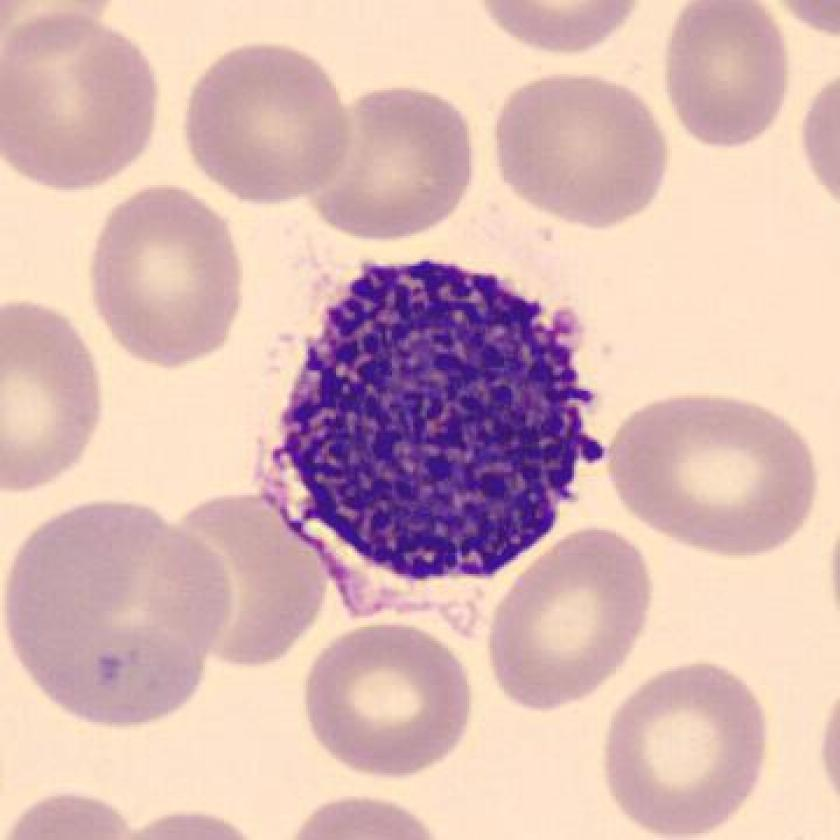basophil: (272, 244, 610, 591)
